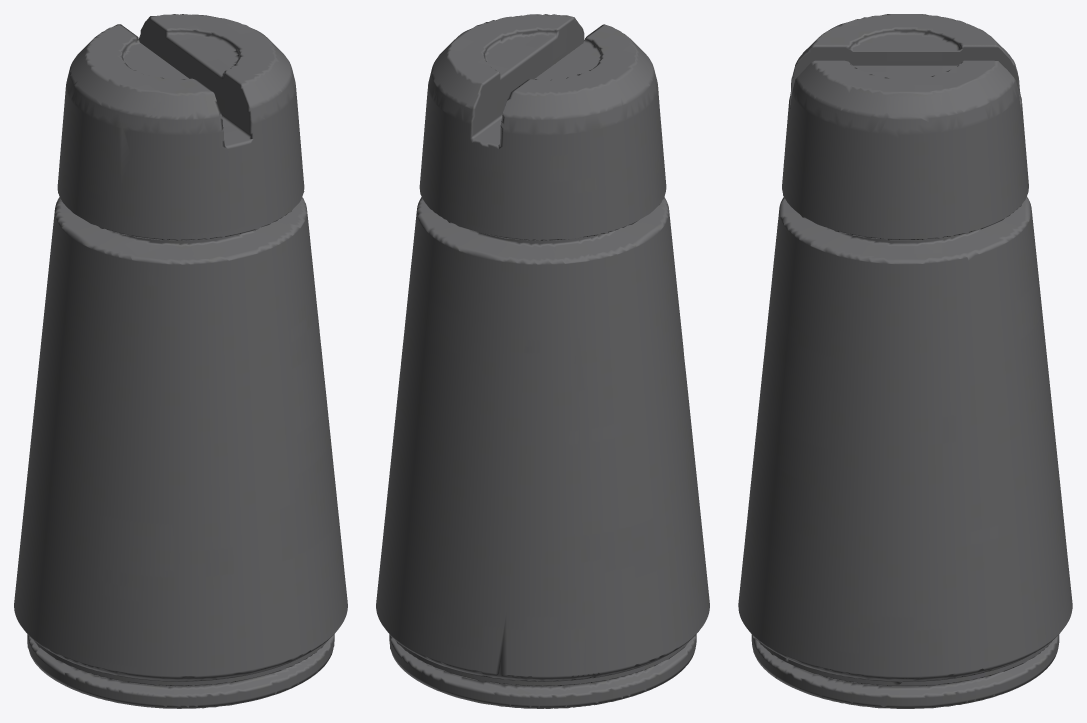
The model's file is rook-black-hd.glb.
3 renders of one model, left to right at view 1: azimuth 30°, elevation 25°; view 2: azimuth 150°, elevation 25°; view 3: azimuth 270°, elevation 25°, orthographic.
Visible parts, largest first — view 1: 05_vez_cerna; view 2: 05_vez_cerna; view 3: 05_vez_cerna.
Boxes of the visible parts, x1,y1,x2,y2 form: 05_vez_cerna: (14,14,347,708); 05_vez_cerna: (376,14,709,708); 05_vez_cerna: (738,14,1072,708).
Size of the model in its own units: 0.5928 by 1.16 by 0.5931.
1 material, 1 textured.
